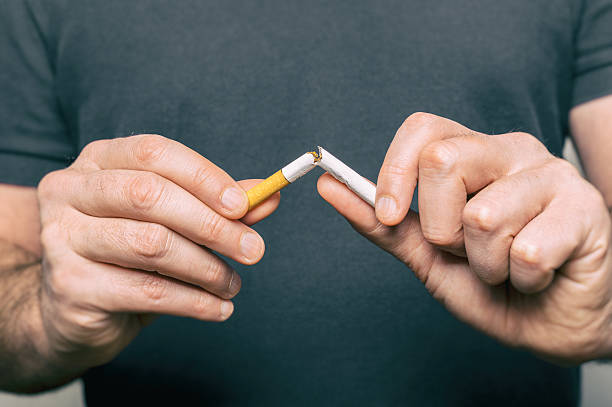cigarette: (242, 150, 320, 210), (311, 145, 377, 209)
